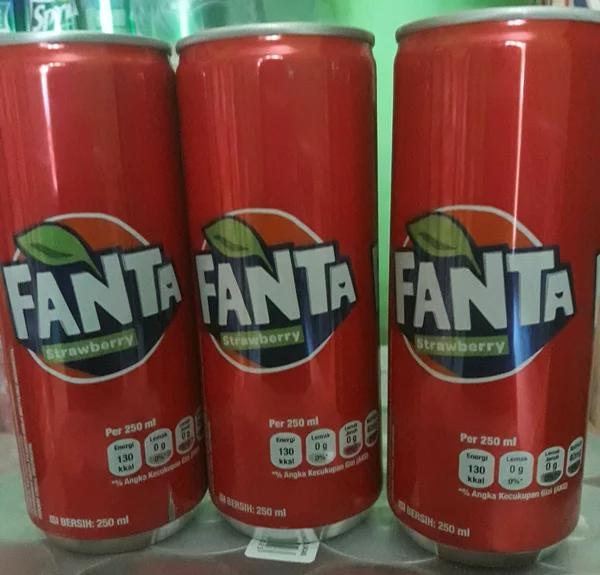metal: (162, 17, 386, 545), (388, 10, 600, 561), (0, 25, 206, 553)
